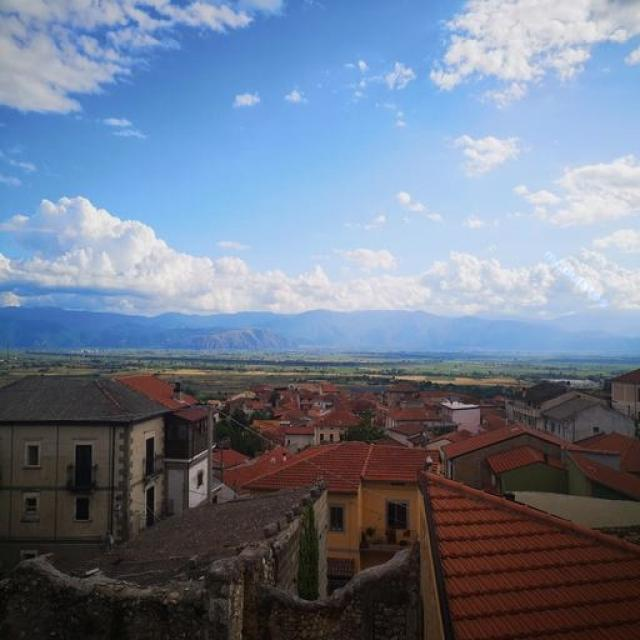watermark: (538, 244, 614, 311)
